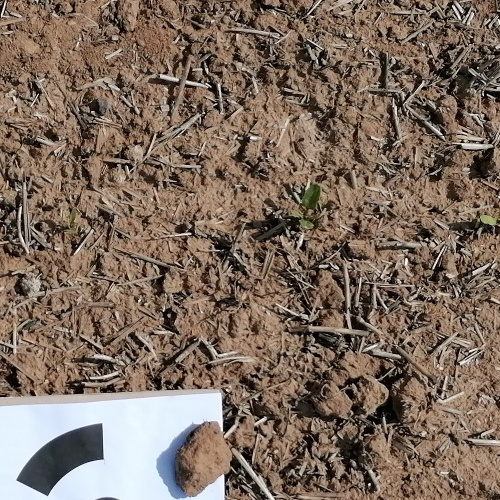beet: (301, 185, 322, 231)
